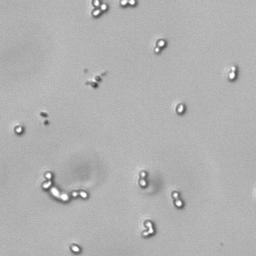budding: (91, 1, 109, 20), (141, 219, 155, 238), (138, 169, 149, 189), (171, 190, 183, 208), (227, 64, 238, 81), (154, 39, 167, 53), (119, 1, 137, 8)
cluster: (36, 169, 93, 204)
individual: (70, 242, 82, 254), (175, 102, 185, 114), (14, 125, 24, 135)
